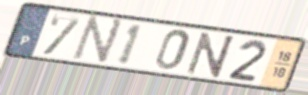0: (153, 28, 192, 73)
1: (117, 23, 145, 66)
2: (225, 38, 267, 84)
7: (41, 12, 84, 57)
N: (69, 14, 126, 67), (184, 30, 238, 79)
